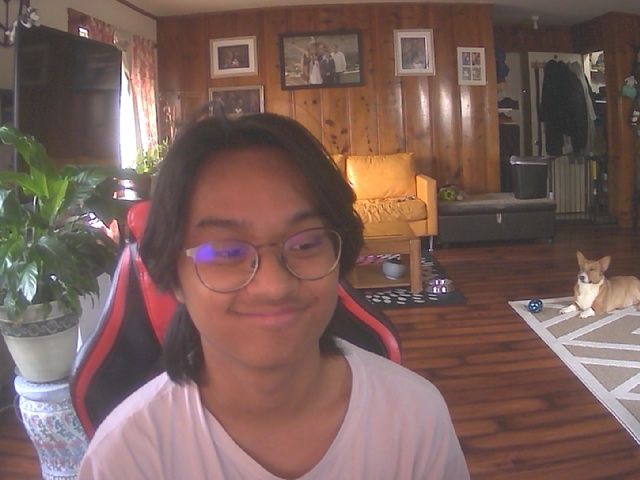happy: (165, 124, 353, 376)
